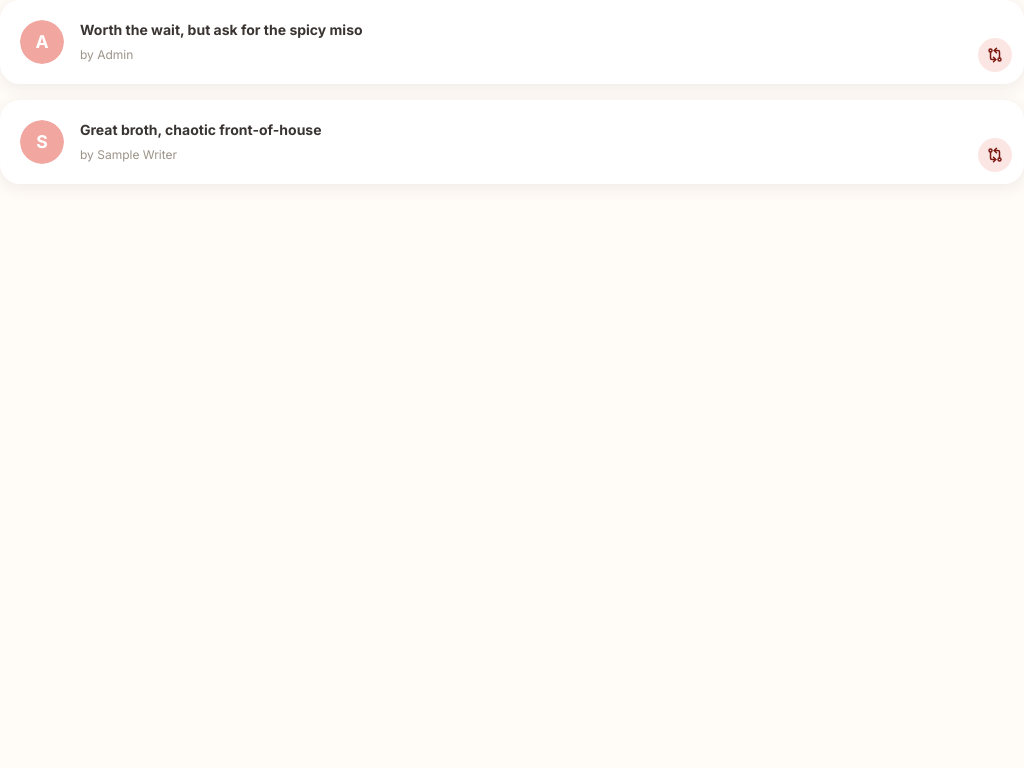
it: ProductCompareSelector › shows a "1 review ready" panel after selecting one review
Click the button named "Compare Worth the wait, but ask for the spicy miso" at (995, 55), box [978,38,1012,72]
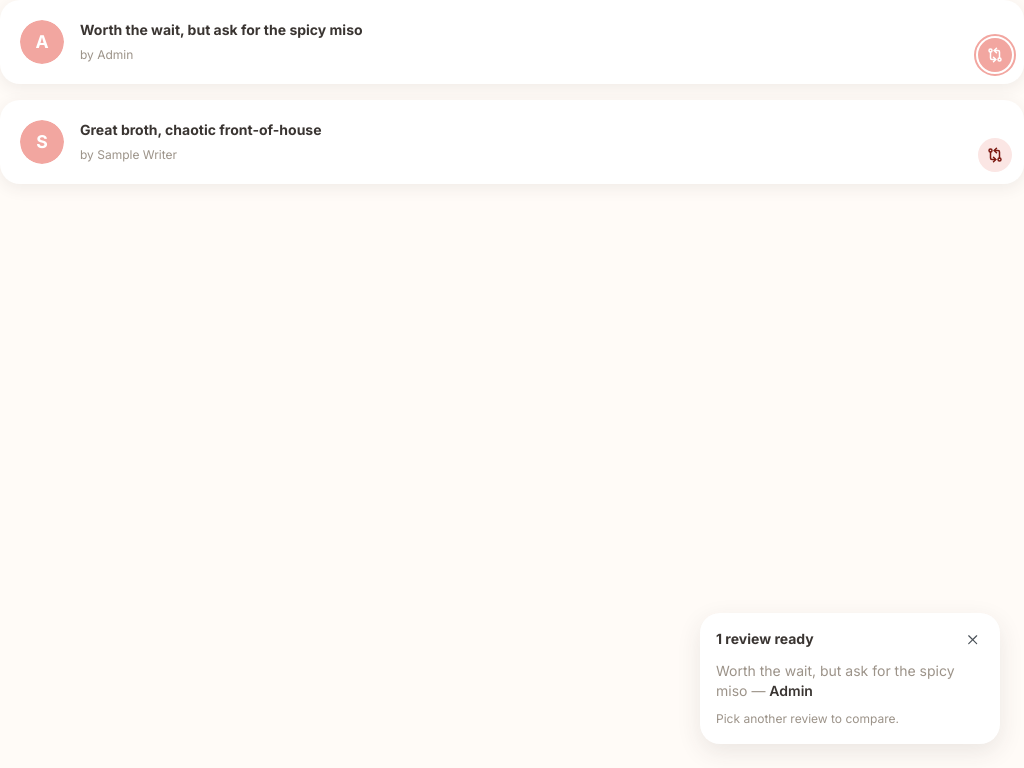
Check: the text "1 review ready" is shown, box [716,630,814,650]
Check: the text "Worth the wait, but ask for the spicy miso" is shown 2 times, box [80,22,363,38]; [716,661,984,701]
